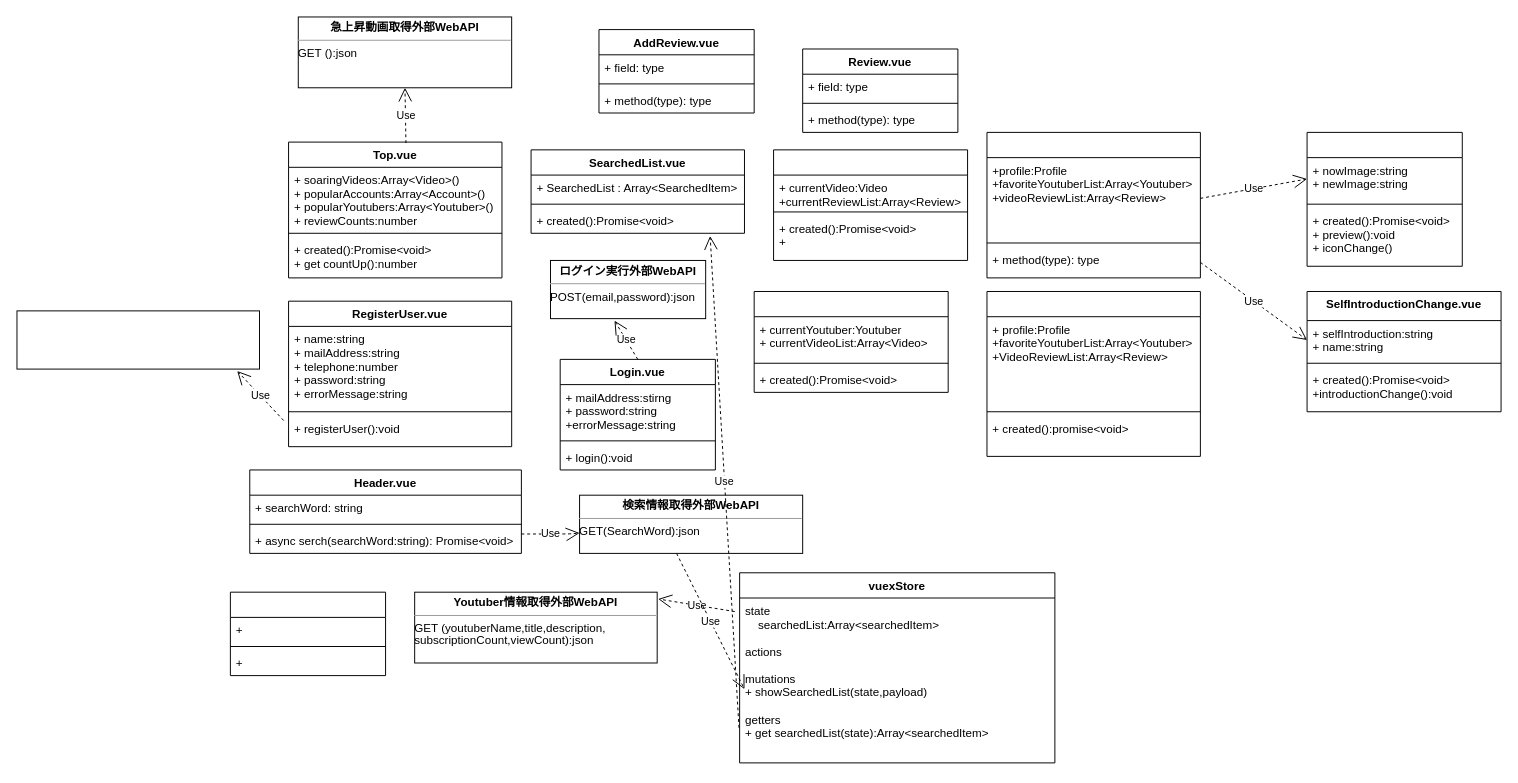
Image size: 1518x783. Some labels were removed from this diagram. Here are the shapes that lost their labels. From the top down, the box of each, then its label:
(773, 149, 968, 260): VideoDetail.vue
(986, 131, 1200, 278): MyProfile.vue
(1306, 131, 1462, 266): IconChange.vue(js)
(16, 310, 259, 369): ユーザ登録外部WebAPI POST (name,email,password ,telephone):json
(753, 291, 948, 392): YoutuberDetail.vue
(986, 291, 1200, 456): OtherProfile.vue
(229, 591, 386, 676): Footer.vue
